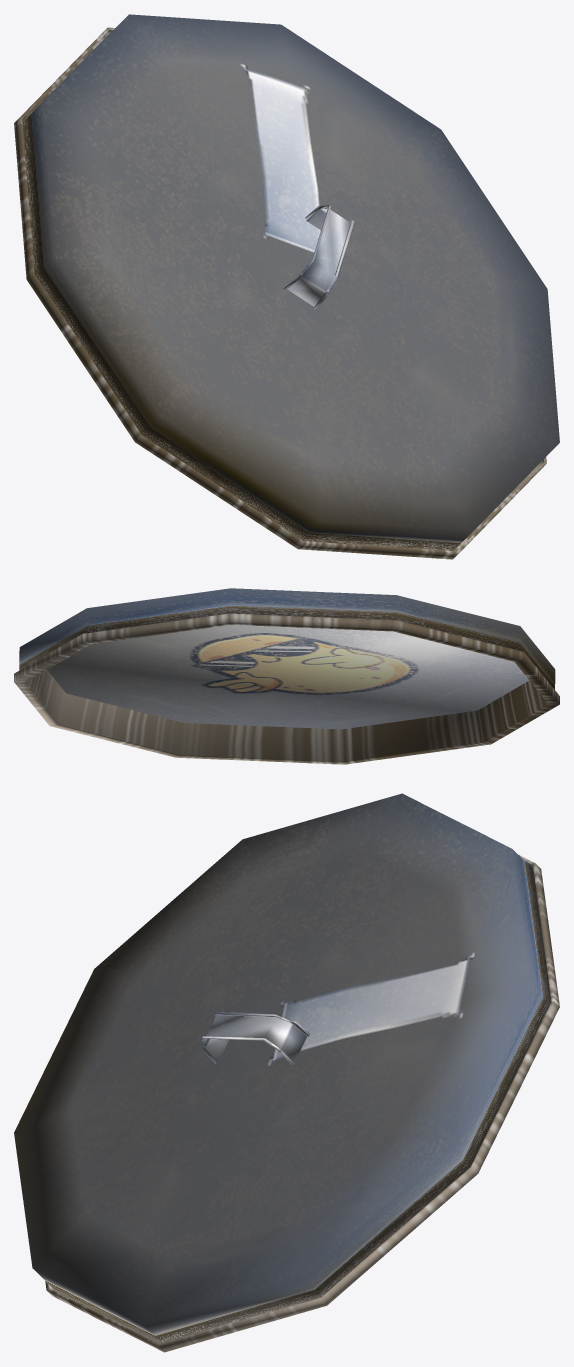
File: TrashCanLidBack.fbx
3 renders of one model, top to bottom at view 1: azimuth 30°, elevation 25°; view 2: azimuth 150°, elevation 25°; view 3: azimuth 270°, elevation 25°, orthographic. The views are drawn at different scales.
Parts seen in each view (by area): view 1: TrashcanLid; view 2: TrashcanLid; view 3: TrashcanLid.
Part boxes in pixels (x1,y1,x2,y2): TrashcanLid: (14,14,559,559); TrashcanLid: (14,588,559,764); TrashcanLid: (14,793,559,1352).
Bounding box in the file's own units: 0.4664 × 0.3309 × 0.4083.
